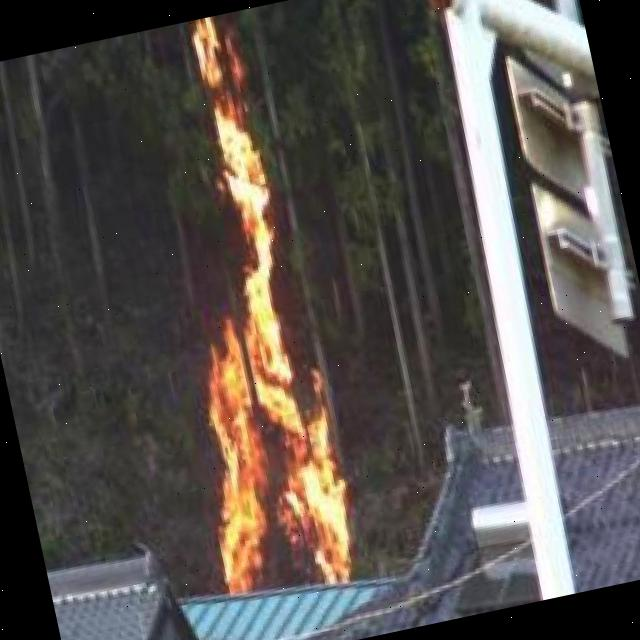fire: (110, 11, 368, 603)
